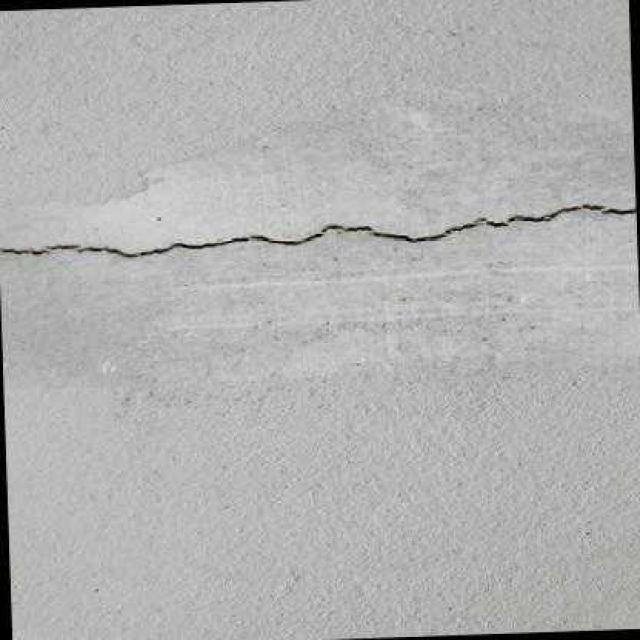D00: (0, 205, 636, 258)
